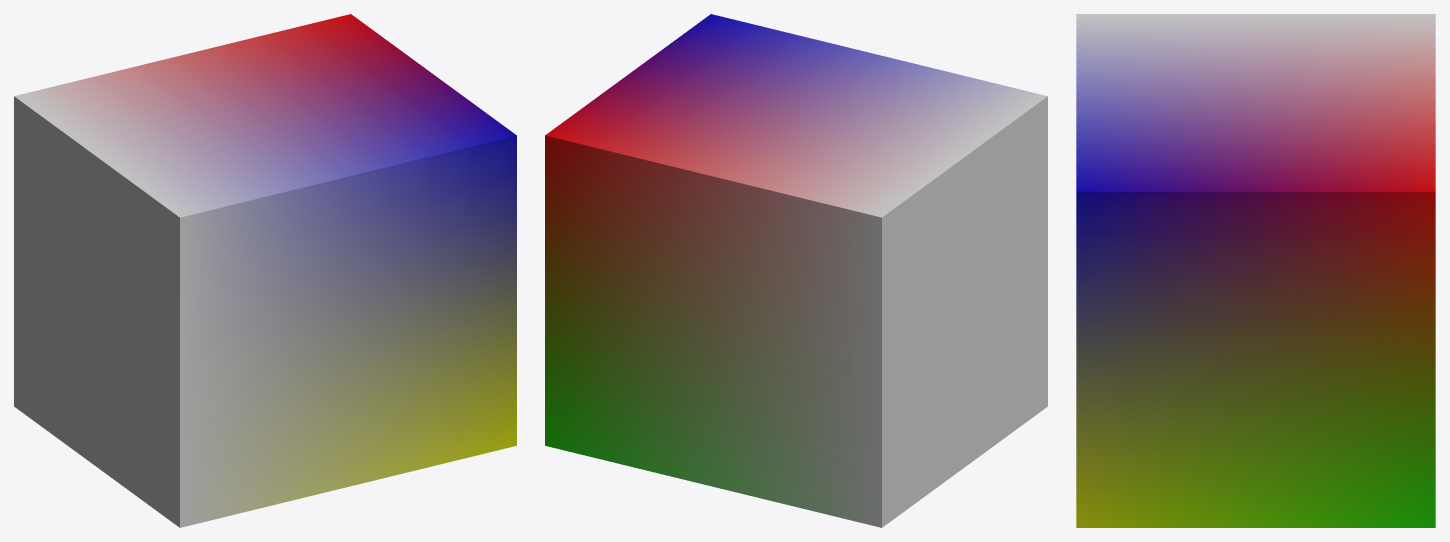
File: testocube.fbx
3 views of the same model, side by side, from view 1: azimuth 30°, elevation 25°; view 2: azimuth 150°, elevation 25°; view 3: azimuth 270°, elevation 25° (orthographic). The views are drawn at different scales.
Parts seen in each view (by area): view 1: Box001; view 2: Box001; view 3: Box001.
Part boxes in pixels (<box>): Box001: <box>14,14,516,527</box>; Box001: <box>545,14,1047,527</box>; Box001: <box>1076,14,1435,527</box>.
Bounding box in the file's own units: 76.76 × 67.55 × 65.48.
